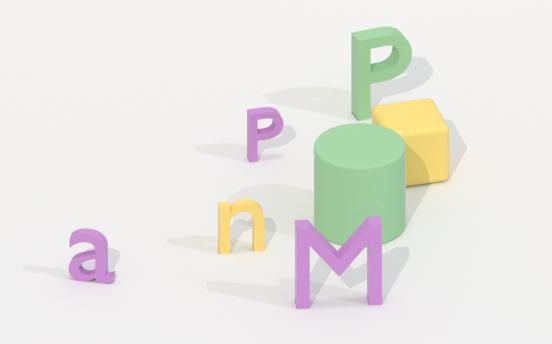M-hoa: (294, 216, 385, 310)
a: (67, 226, 118, 289)
hop: (369, 100, 453, 191)
n: (213, 198, 269, 257)
p: (349, 21, 416, 123), (243, 105, 287, 167)
tru: (309, 120, 408, 248)
